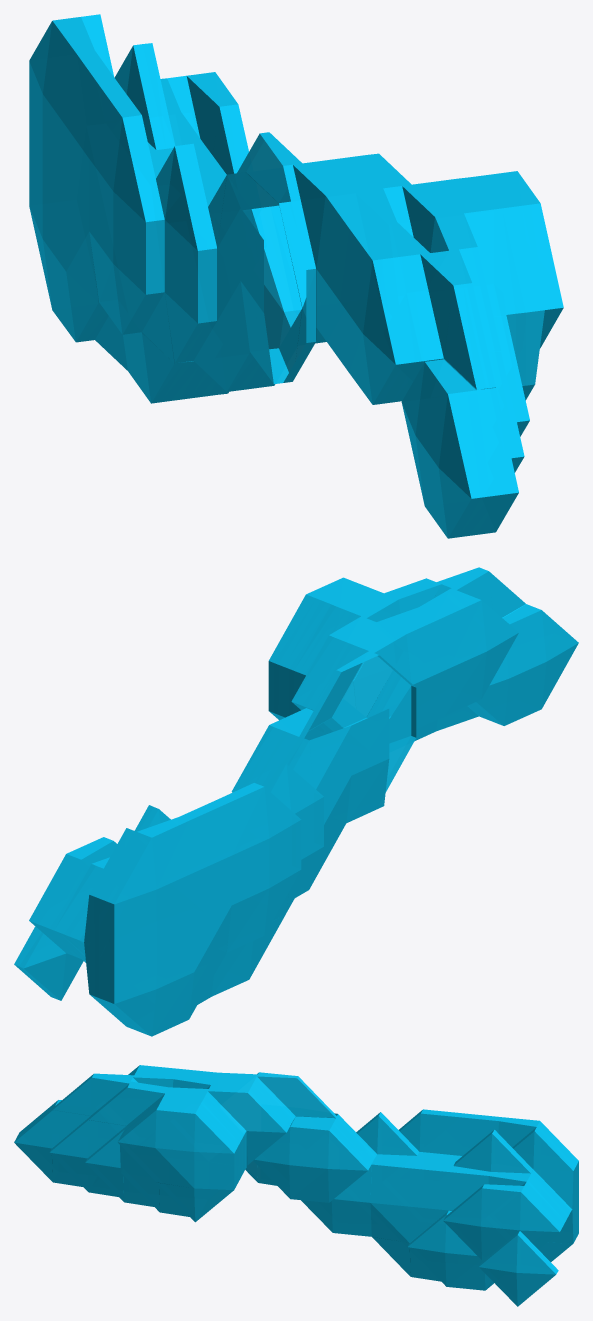
Rendered from SVV_SABVL.gltf.
3 views of the same model, one above another, from view 1: azimuth 30°, elevation 25°; view 2: azimuth 150°, elevation 25°; view 3: azimuth 270°, elevation 25° (orthographic). The views are drawn at different scales.
Visible parts, largest first — view 1: SABVL; view 2: SABVL; view 3: SABVL.
Part boxes in pixels (box(x1,y1,x2,y2)): SABVL: box(29, 14, 563, 538); SABVL: box(14, 567, 578, 1036); SABVL: box(14, 1065, 578, 1306).
Bounding box in the file's own units: 2719 × 3291 × 9306.
